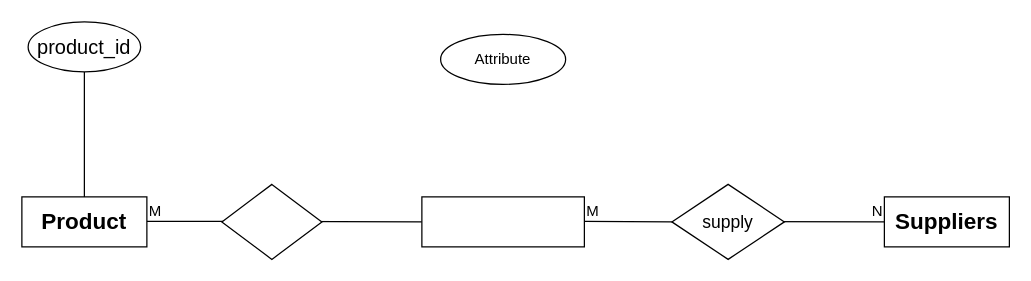
This 1031x281 diagram has some shape labels left out. Here are the shapes that lost their labels. From the top down, the centre of each, then its label:
point 271,221: Build
point 502,221: Components
